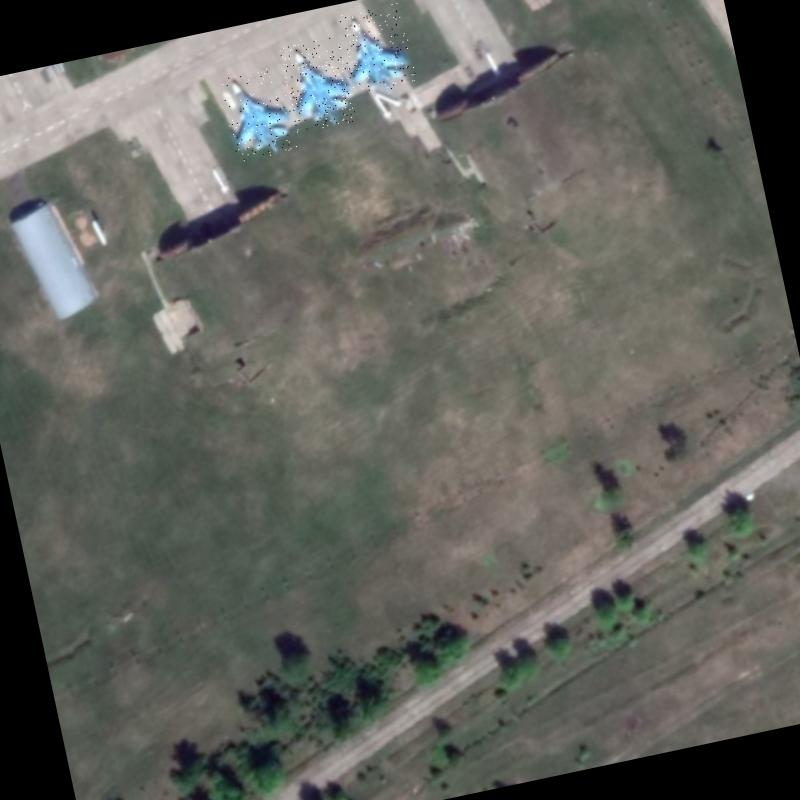A19: (336, 2, 418, 97), (219, 65, 299, 162), (279, 36, 357, 134)
